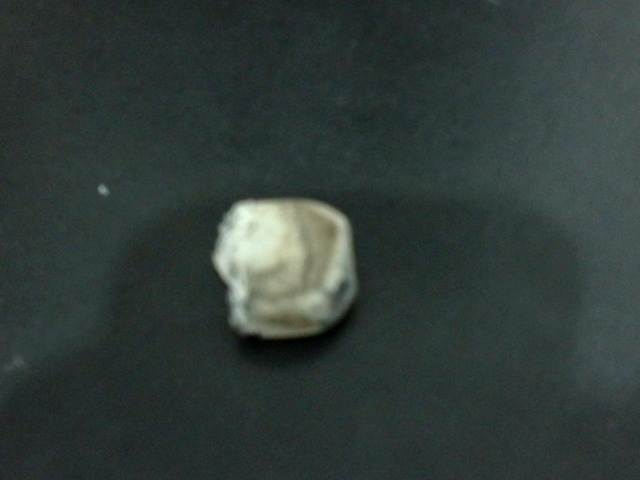eraser: (203, 178, 364, 343)
